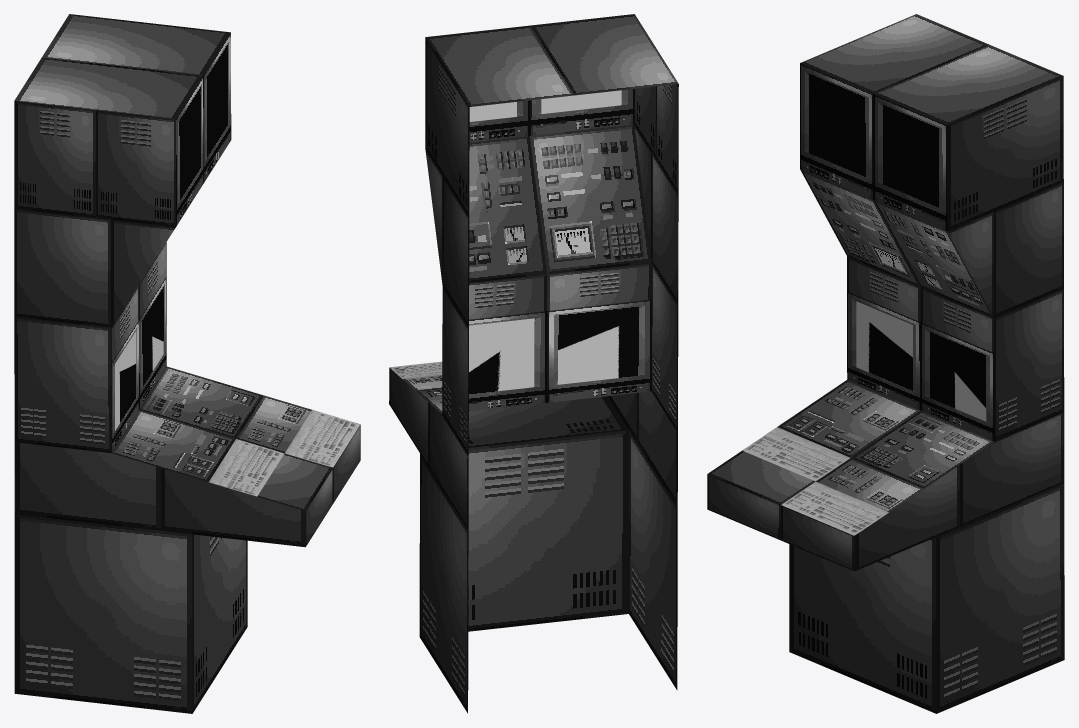
File: primary_181.glb
3 views of the same model, side by side, from view 1: azimuth 30°, elevation 25°; view 2: azimuth 150°, elevation 25°; view 3: azimuth 270°, elevation 25° (orthographic). The views are drawn at different scales.
Visible parts, largest first — view 1: Object; view 2: Object; view 3: Object.
Part boxes in pixels (bbox=[...]): Object: bbox=[14, 14, 360, 713]; Object: bbox=[389, 14, 678, 713]; Object: bbox=[707, 14, 1064, 713].
Size of the model in its own units: 1.69 by 3.05 by 1.69.
Materials: 26 (26 with a texture image).
